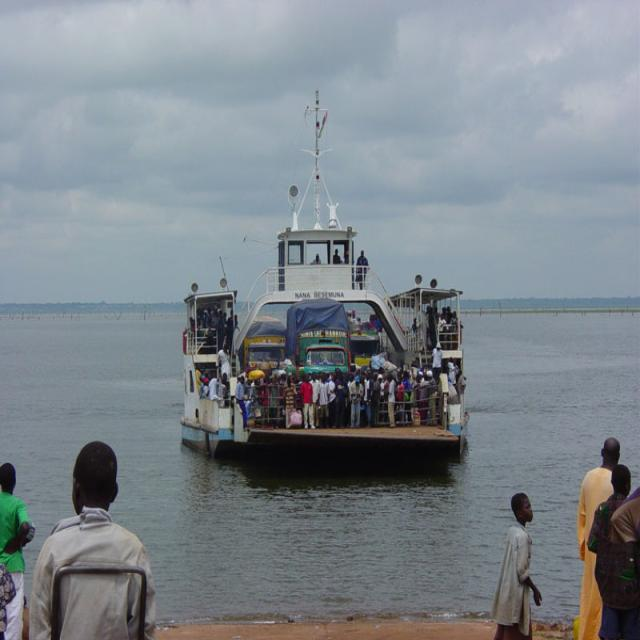passenger ship: (159, 146, 479, 449)
